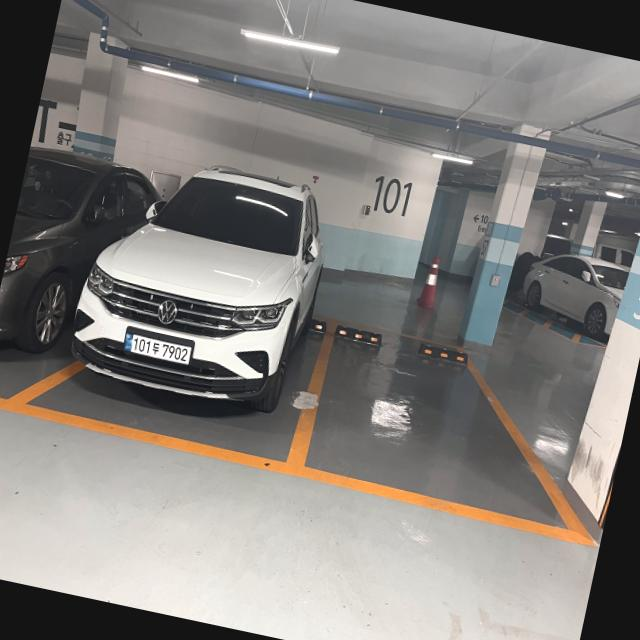car: (39, 125, 342, 490)
free: (282, 316, 599, 546)
